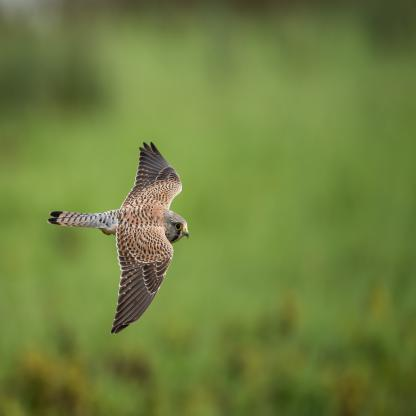bird: (47, 141, 190, 335)
